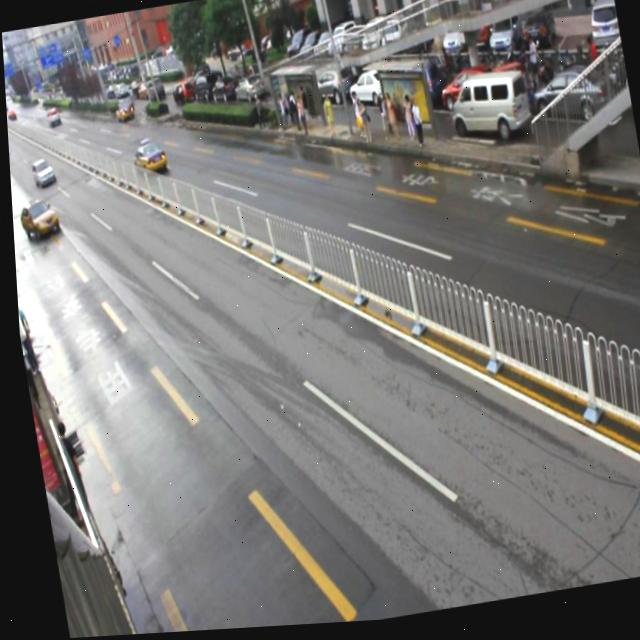car: (14, 196, 59, 242), (127, 136, 166, 177)
